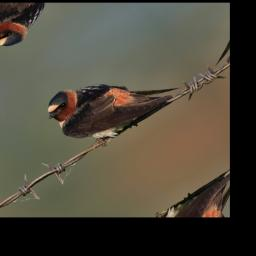Swallow: (37, 37, 188, 162)
